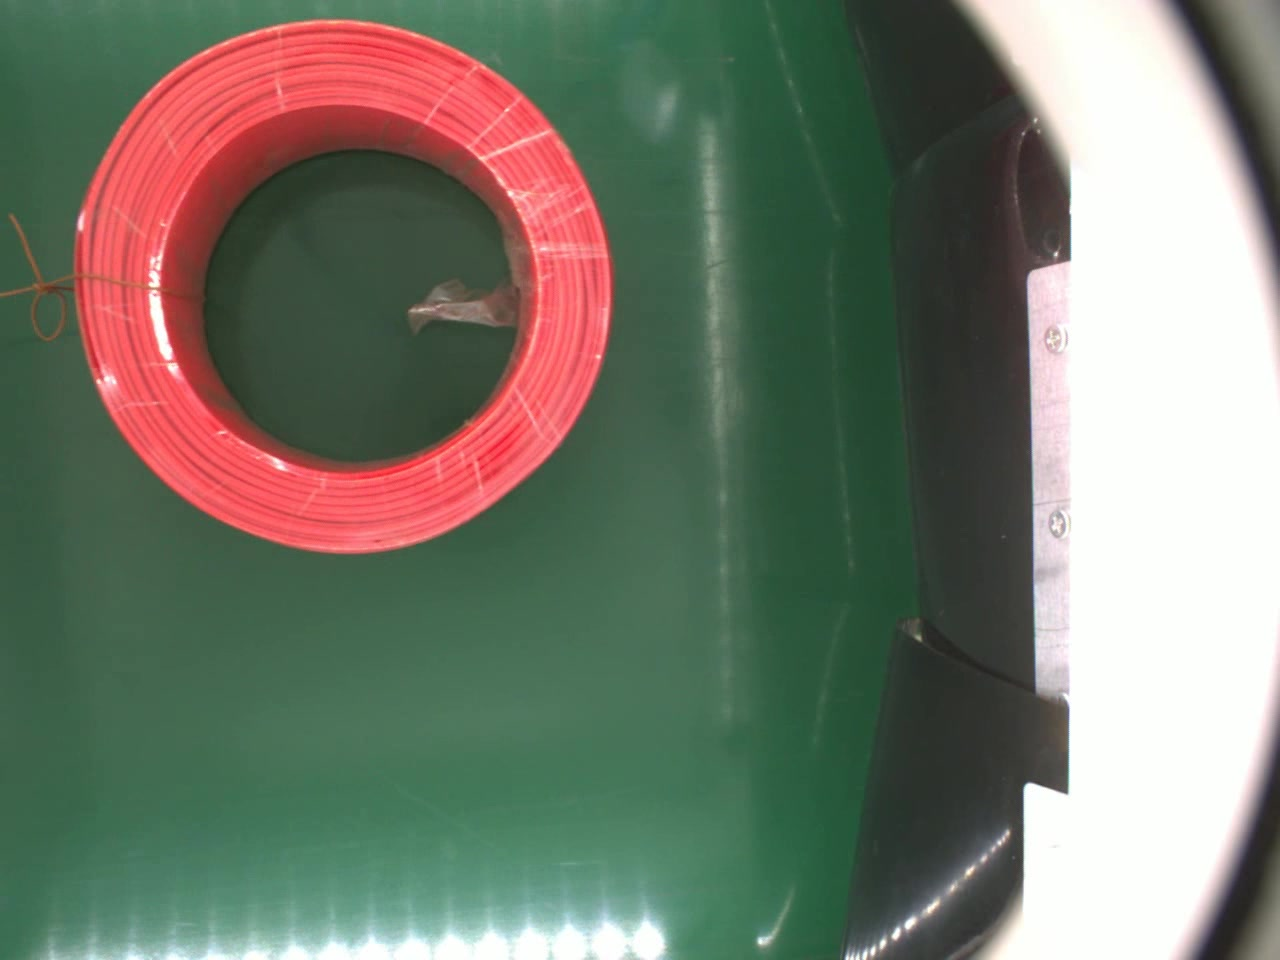red: (70, 16, 618, 565)
